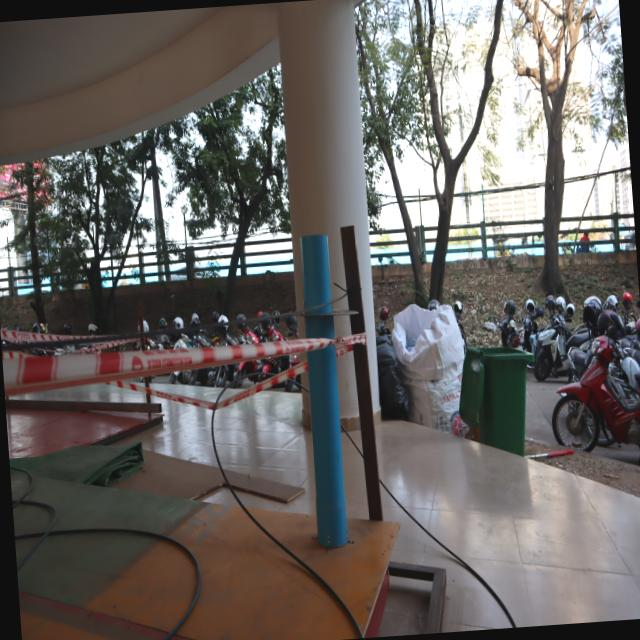pole: (282, 226, 352, 389)
